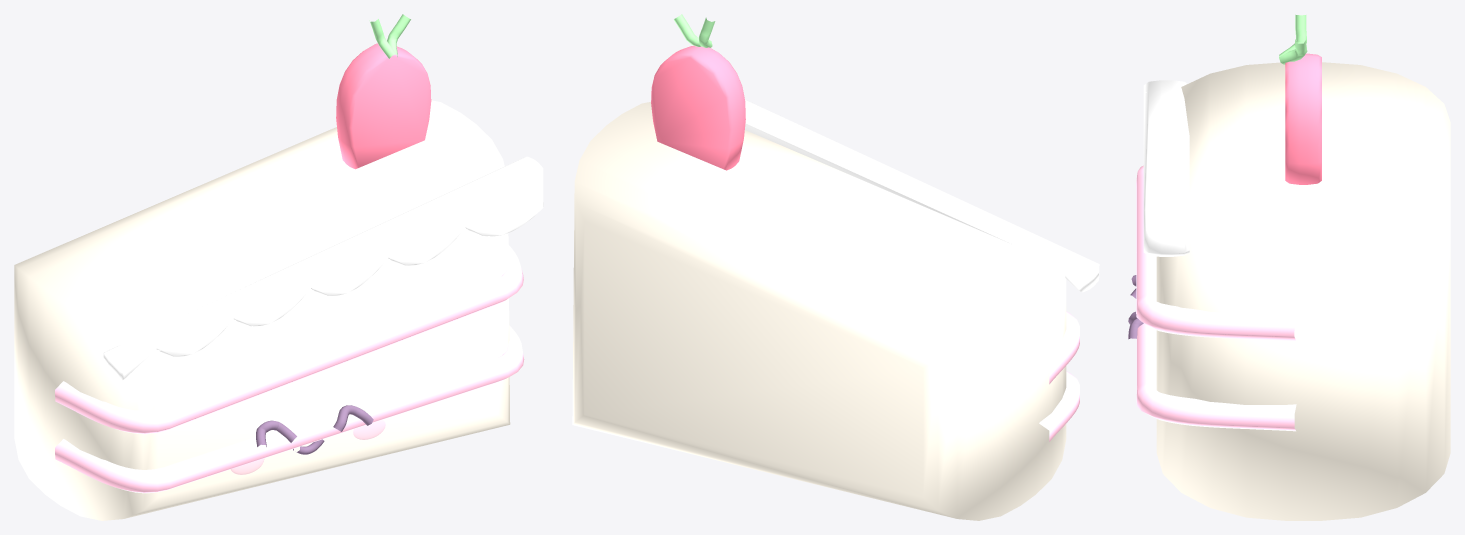
The model's file is squishy_shortcake.glb.
3 views of the same model, side by side, from view 1: azimuth 30°, elevation 25°; view 2: azimuth 150°, elevation 25°; view 3: azimuth 270°, elevation 25° (orthographic). The views are drawn at different scales.
Parts seen in each view (by area): view 1: shortcake; view 2: shortcake; view 3: shortcake.
Boxes of the visible parts, left/top/right/bottom form: shortcake: left=14, top=14, right=543, bottom=520; shortcake: left=572, top=14, right=1099, bottom=520; shortcake: left=1128, top=14, right=1450, bottom=520.
Bounding box in the file's own units: 1.13 × 1 × 0.6442.
